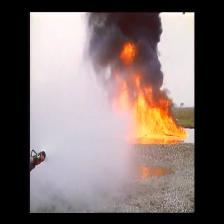fire: (137, 107, 175, 138)
smoke: (92, 15, 153, 46)
